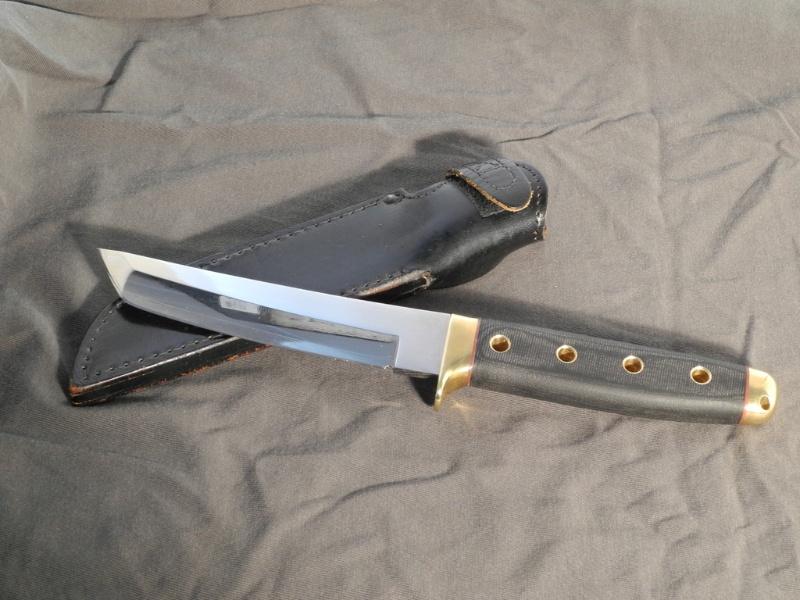wine: (1, 86, 800, 598)
